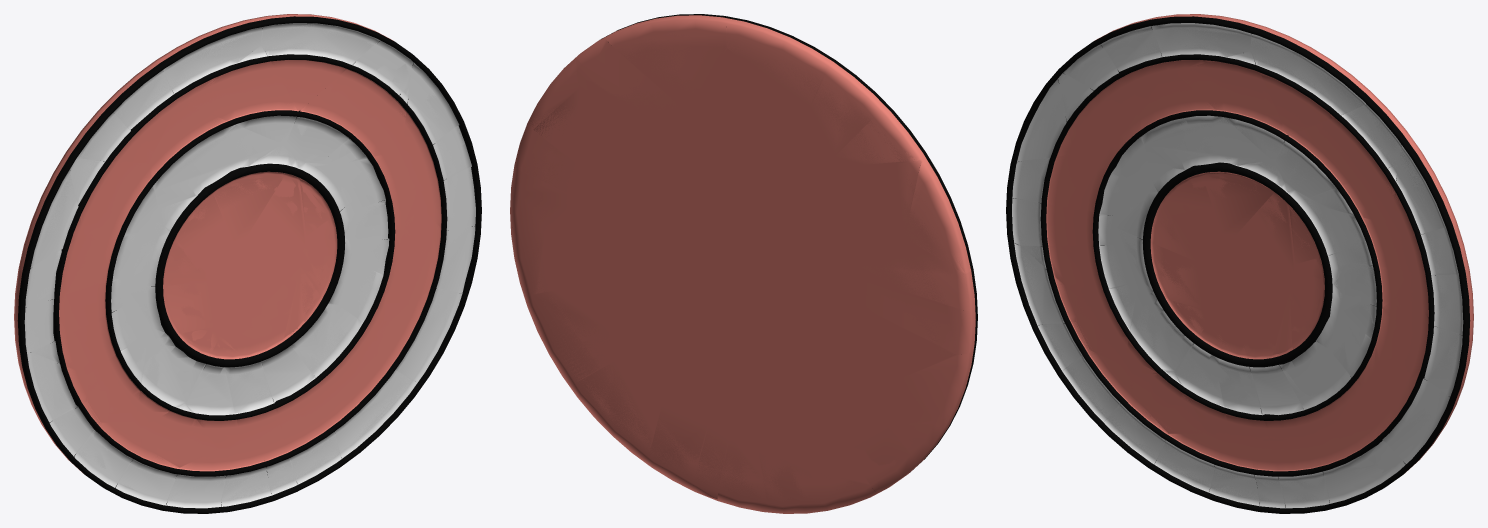
File: target.fbx
The picture shows the model from 3 angles, left to right: view 1: azimuth 30°, elevation 25°; view 2: azimuth 150°, elevation 25°; view 3: azimuth 330°, elevation 25°; orthographic projection.
Visible parts, largest first — view 1: Cylinder, Cylinder_cell.009, Cylinder_cell.035, Cylinder_cell.044, Cylinder_cell.043, Cylinder_cell.041, Cylinder_cell.010, Cylinder_cell.029, Cylinder_cell.033, Cylinder_cell.034, Cylinder_cell.002, Cylinder_cell.045 (+39 smaller); view 2: Cylinder, Cylinder_cell.009, Cylinder_cell.035, Cylinder_cell.034, Cylinder_cell.002, Cylinder_cell.029, Cylinder_cell.010, Cylinder_cell.041, Cylinder_cell.043, Cylinder_cell.015, Cylinder_cell.033, Cylinder_cell.045 (+37 smaller); view 3: Cylinder, Cylinder_cell.044, Cylinder_cell.035, Cylinder_cell.034, Cylinder_cell.009, Cylinder_cell.029, Cylinder_cell.002, Cylinder_cell.015, Cylinder_cell.036, Cylinder_cell.041, Cylinder_cell.043, Cylinder_cell.039 (+39 smaller).
Part boxes in pixels (left/top/right/bottom): Cylinder: left=14, top=14, right=481, bottom=513; Cylinder_cell.009: left=150, top=104, right=280, bottom=208; Cylinder_cell.035: left=261, top=15, right=385, bottom=111; Cylinder_cell.044: left=286, top=35, right=415, bottom=162; Cylinder_cell.043: left=63, top=154, right=158, bottom=235; Cylinder_cell.041: left=374, top=288, right=467, bottom=385; Cylinder_cell.010: left=329, top=359, right=421, bottom=462; Cylinder_cell.029: left=14, top=234, right=138, bottom=310; Cylinder_cell.033: left=288, top=304, right=375, bottom=396; Cylinder_cell.034: left=186, top=46, right=300, bottom=143; Cylinder_cell.002: left=156, top=17, right=265, bottom=103; Cylinder_cell.045: left=18, top=158, right=83, bottom=273; Cylinder: left=510, top=14, right=977, bottom=513; Cylinder_cell.009: left=708, top=106, right=838, bottom=207; Cylinder_cell.035: left=606, top=15, right=729, bottom=95; Cylinder_cell.034: left=690, top=48, right=803, bottom=135; Cylinder_cell.002: left=726, top=18, right=830, bottom=106; Cylinder_cell.029: left=850, top=237, right=976, bottom=310; Cylinder_cell.010: left=570, top=361, right=661, bottom=451; Cylinder_cell.041: left=524, top=290, right=612, bottom=382; Cylinder_cell.043: left=830, top=155, right=927, bottom=237; Cylinder_cell.015: left=862, top=279, right=977, bottom=353; Cylinder_cell.033: left=612, top=306, right=702, bottom=396; Cylinder_cell.045: left=905, top=157, right=973, bottom=273; Cylinder: left=1006, top=14, right=1473, bottom=513; Cylinder_cell.044: left=1275, top=99, right=1407, bottom=197; Cylinder_cell.035: left=1250, top=25, right=1377, bottom=136; Cylinder_cell.034: left=1174, top=51, right=1286, bottom=160; Cylinder_cell.009: left=1138, top=79, right=1260, bottom=173; Cylinder_cell.029: left=1006, top=155, right=1123, bottom=215; Cylinder_cell.002: left=1148, top=14, right=1256, bottom=71; Cylinder_cell.015: left=1006, top=198, right=1115, bottom=247; Cylinder_cell.036: left=1391, top=133, right=1456, bottom=239; Cylinder_cell.041: left=1369, top=378, right=1458, bottom=468; Cylinder_cell.043: left=1056, top=72, right=1146, bottom=179; Cylinder_cell.039: left=1124, top=292, right=1207, bottom=374.
Size of the model in its own units: 199 by 199 by 6.7.
